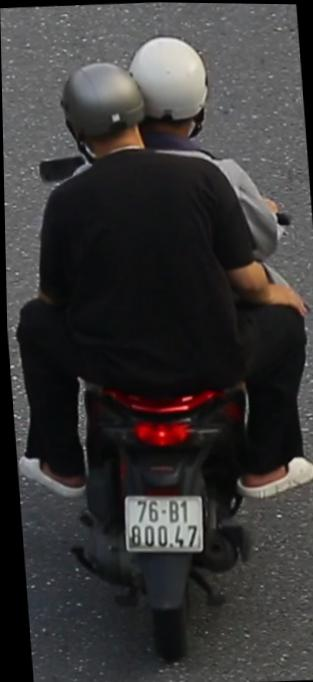LP: (112, 482, 207, 566)
helmet: (56, 55, 150, 150), (131, 33, 212, 133)
